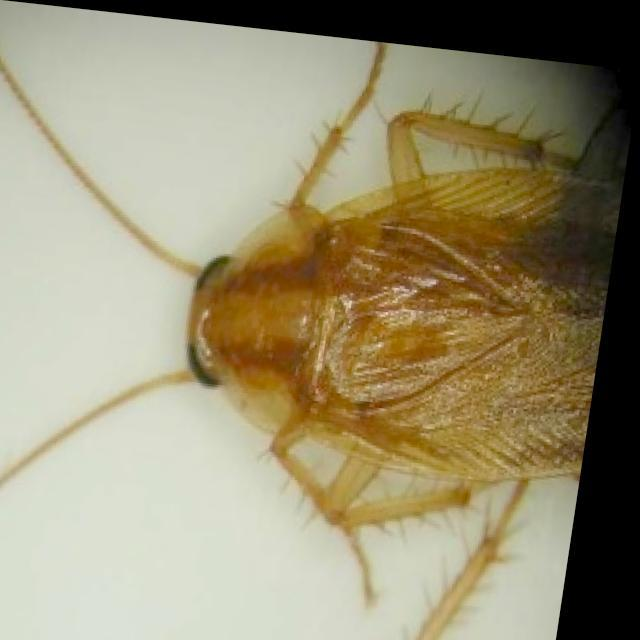cockroach: (2, 39, 616, 637)
